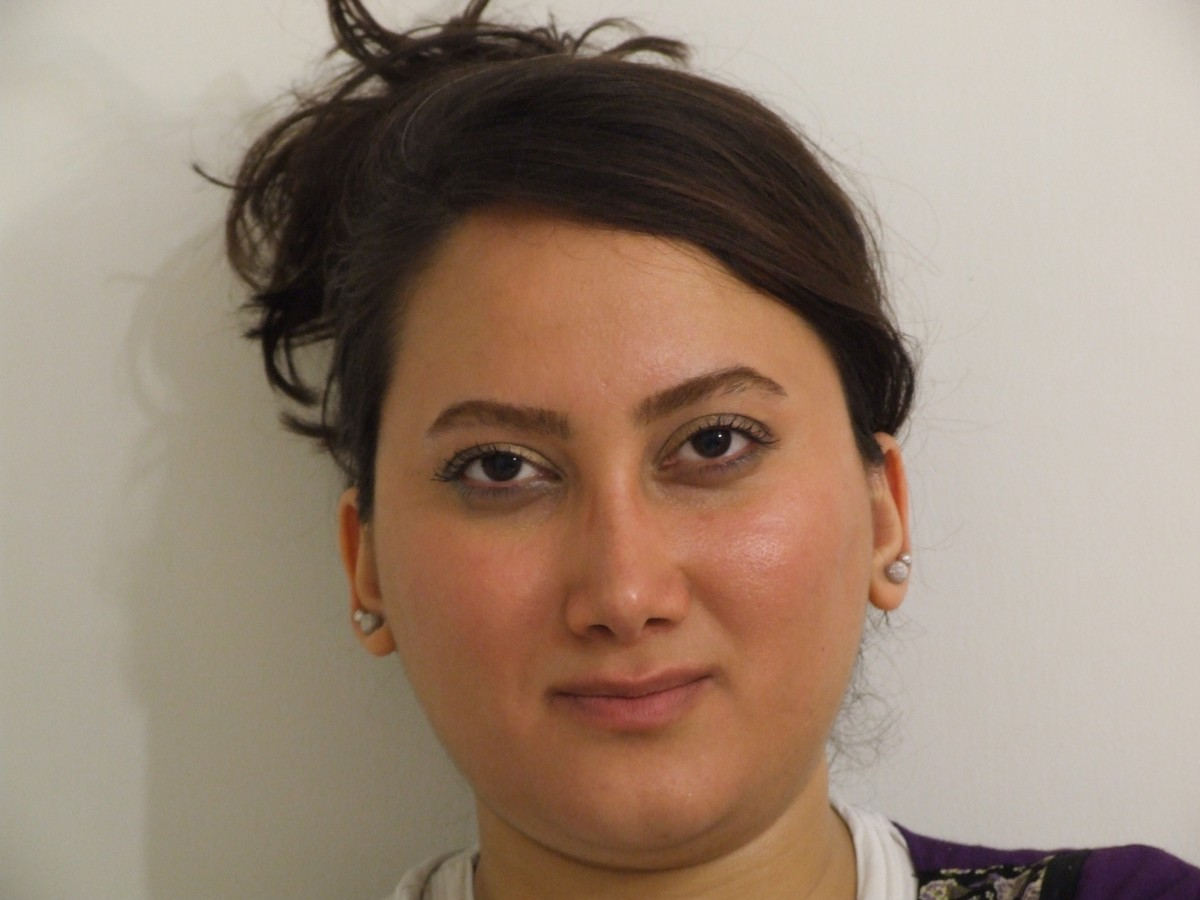occhiaia: (644, 471, 825, 528)
